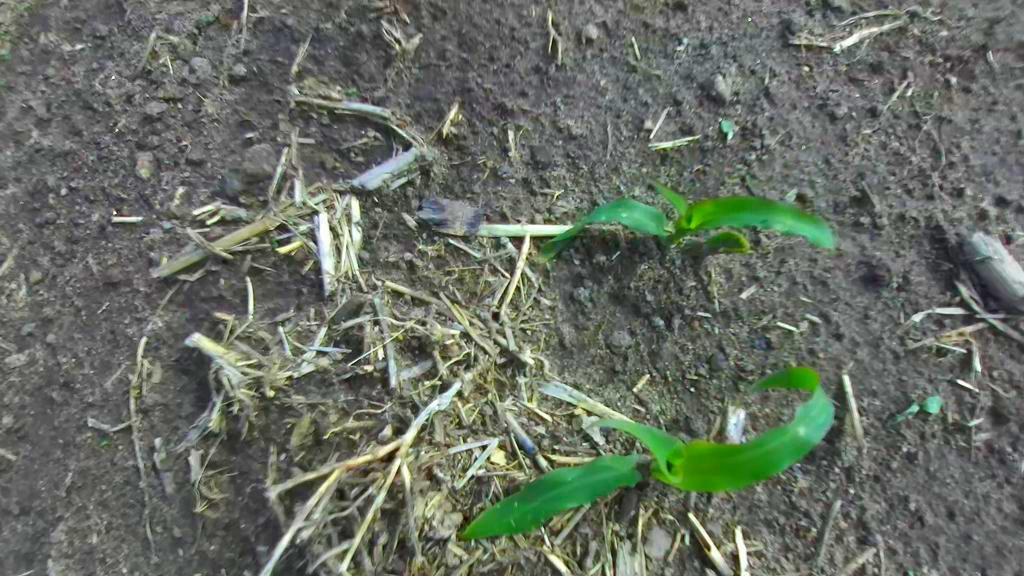BroWeed: (881, 393, 945, 427), (796, 515, 821, 545), (788, 472, 814, 497), (678, 523, 695, 546), (720, 119, 735, 143), (390, 328, 406, 341), (345, 85, 358, 96), (96, 438, 109, 448), (905, 70, 915, 82)
Maize: (438, 355, 850, 569), (528, 167, 836, 264)
